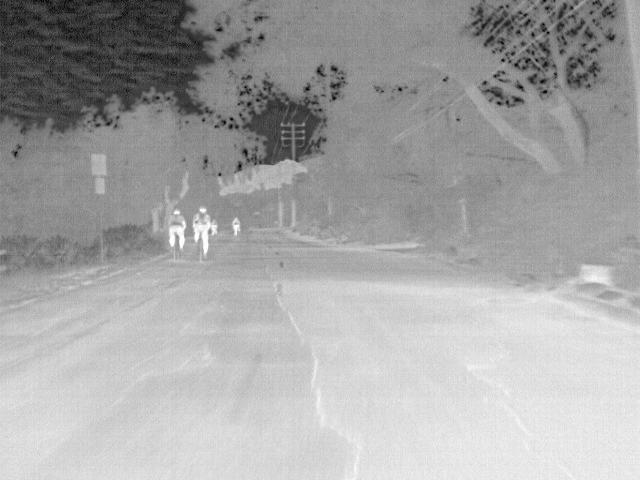person: (192, 206, 212, 256), (166, 209, 188, 249), (209, 219, 220, 239), (232, 218, 241, 236)
